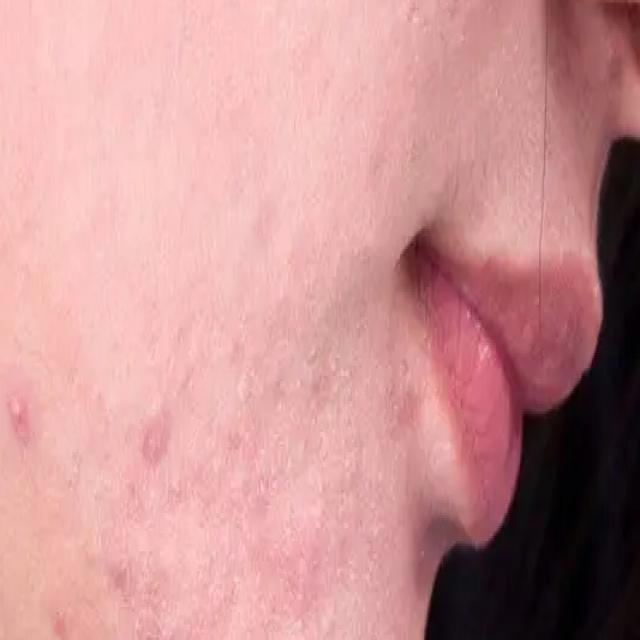Pimples: (138, 397, 171, 472), (7, 389, 30, 447), (106, 551, 134, 594)
